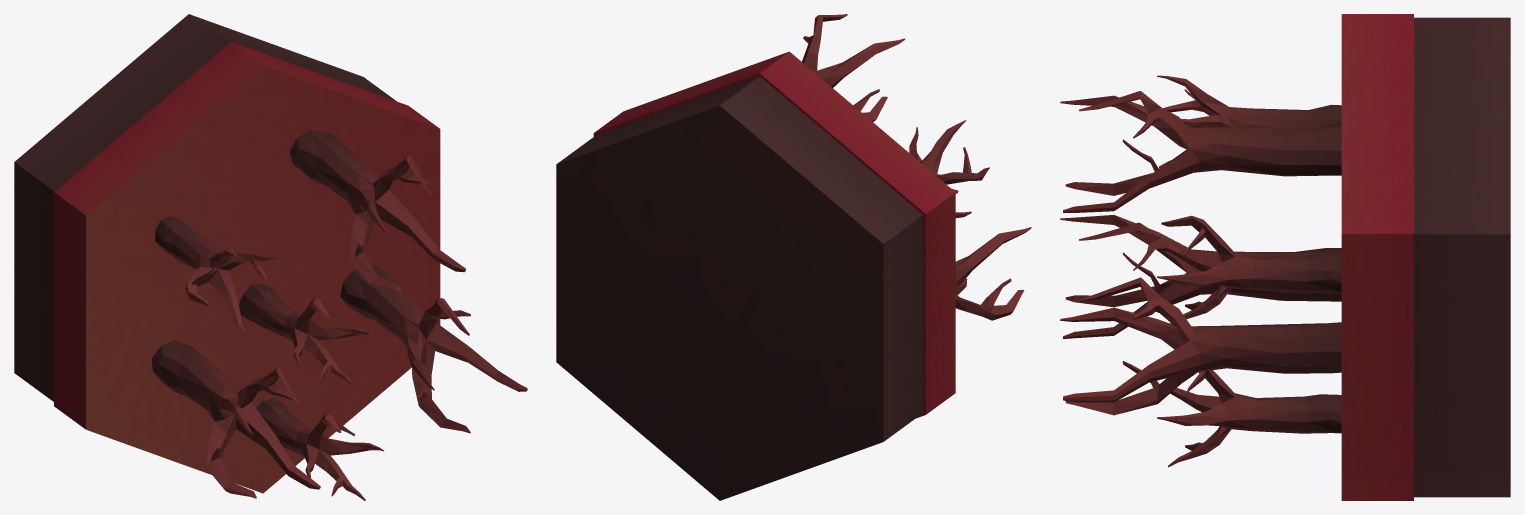
Rendered from LAUBWALD_S_DEAD.fbx.
The picture shows the model from 3 angles, left to right: view 1: azimuth 30°, elevation 25°; view 2: azimuth 150°, elevation 25°; view 3: azimuth 270°, elevation 25°; orthographic projection. The views are drawn at different scales.
Visible parts, largest first — view 1: LAUBWALD_S_DEAD; view 2: LAUBWALD_S_DEAD; view 3: LAUBWALD_S_DEAD.
Part boxes in pixels (bbox=[...]): LAUBWALD_S_DEAD: bbox=[14, 14, 527, 500]; LAUBWALD_S_DEAD: bbox=[556, 14, 1031, 500]; LAUBWALD_S_DEAD: bbox=[1060, 14, 1510, 500].
Bounding box in the file's own units: 172 × 199 × 167.
